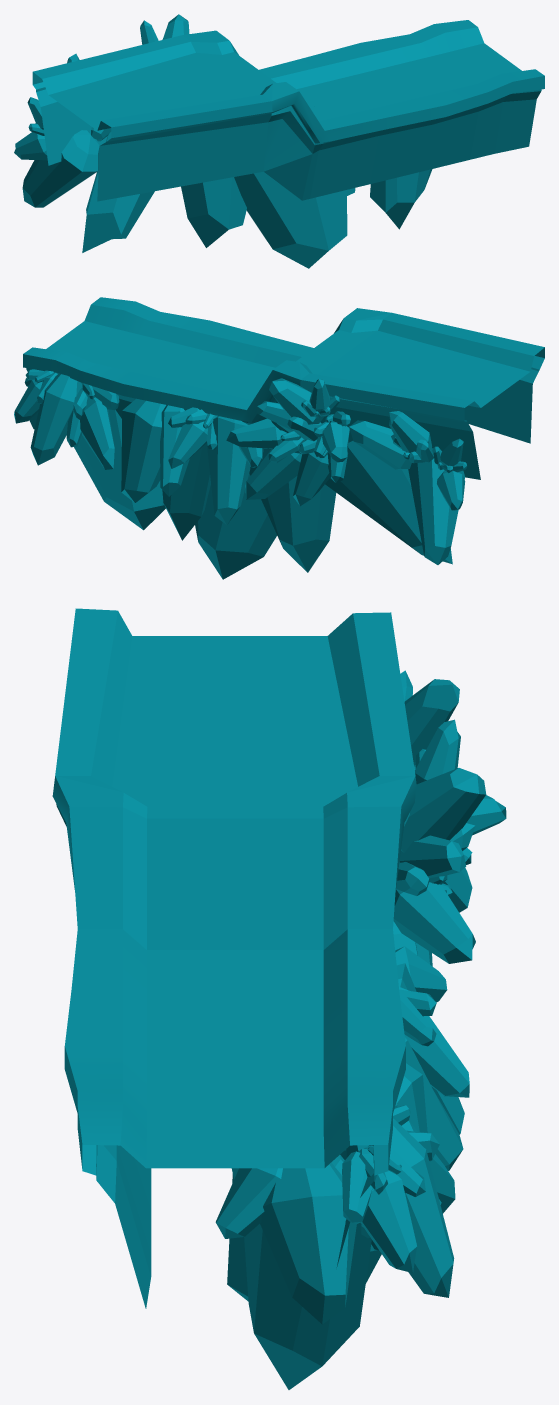
Rendered from Step_up_long_Modul.fbx.
The picture shows the model from 3 angles, top to bottom: view 1: azimuth 30°, elevation 25°; view 2: azimuth 150°, elevation 25°; view 3: azimuth 270°, elevation 25°; orthographic projection. The views are drawn at different scales.
Visible parts, largest first — view 1: pCube334; view 2: pCube334; view 3: pCube334.
Part boxes in pixels (x1,y1,x2,y2): pCube334: [14, 14, 544, 268]; pCube334: [14, 297, 544, 579]; pCube334: [52, 608, 506, 1389].
Bounding box in the file's own units: 4.52 × 2.45 × 1.98.
